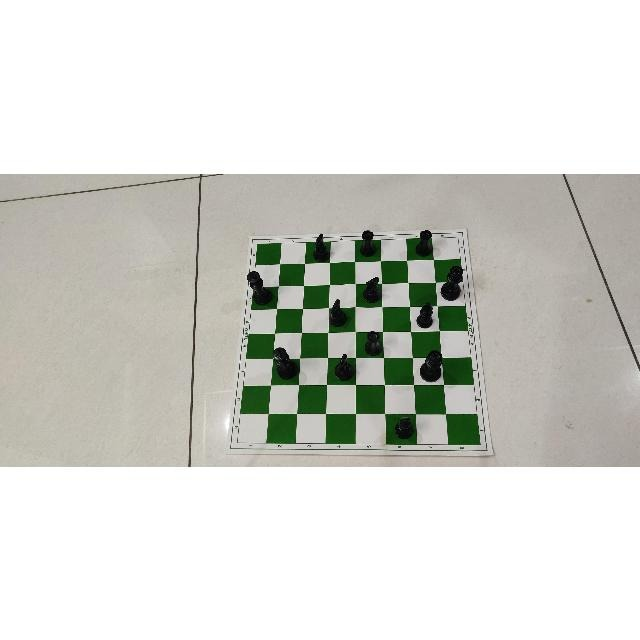black-bishop: (394, 415, 416, 440), (415, 300, 434, 328)
black-king: (245, 269, 272, 305), (271, 346, 299, 380)
black-knight: (333, 352, 355, 381), (362, 275, 382, 303), (328, 298, 348, 326), (312, 232, 330, 262)
black-queen: (440, 263, 464, 300), (419, 348, 443, 382)
black-rook: (363, 329, 382, 356), (359, 229, 377, 257), (415, 228, 433, 256)
